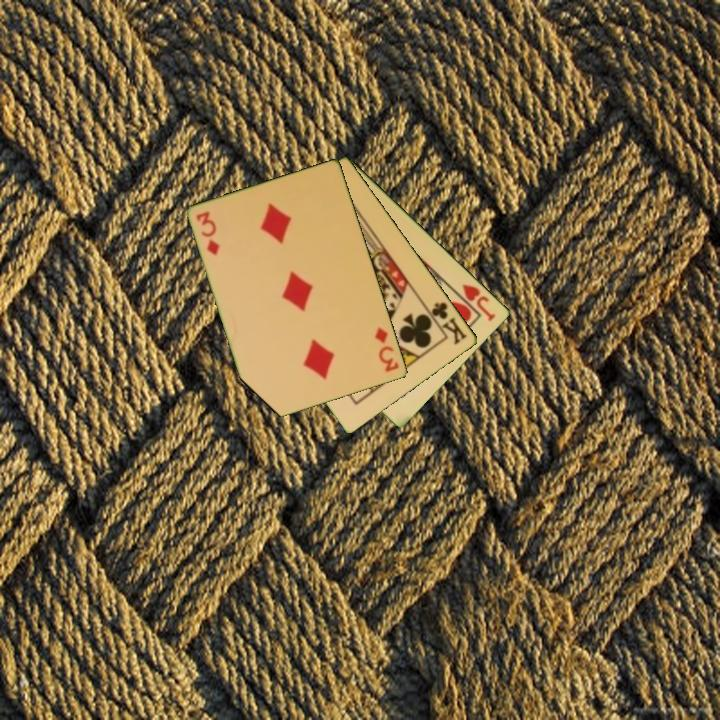3d: (372, 323, 402, 375), (193, 208, 223, 258)
Jh: (450, 280, 499, 324)
Kc: (423, 298, 470, 347)
